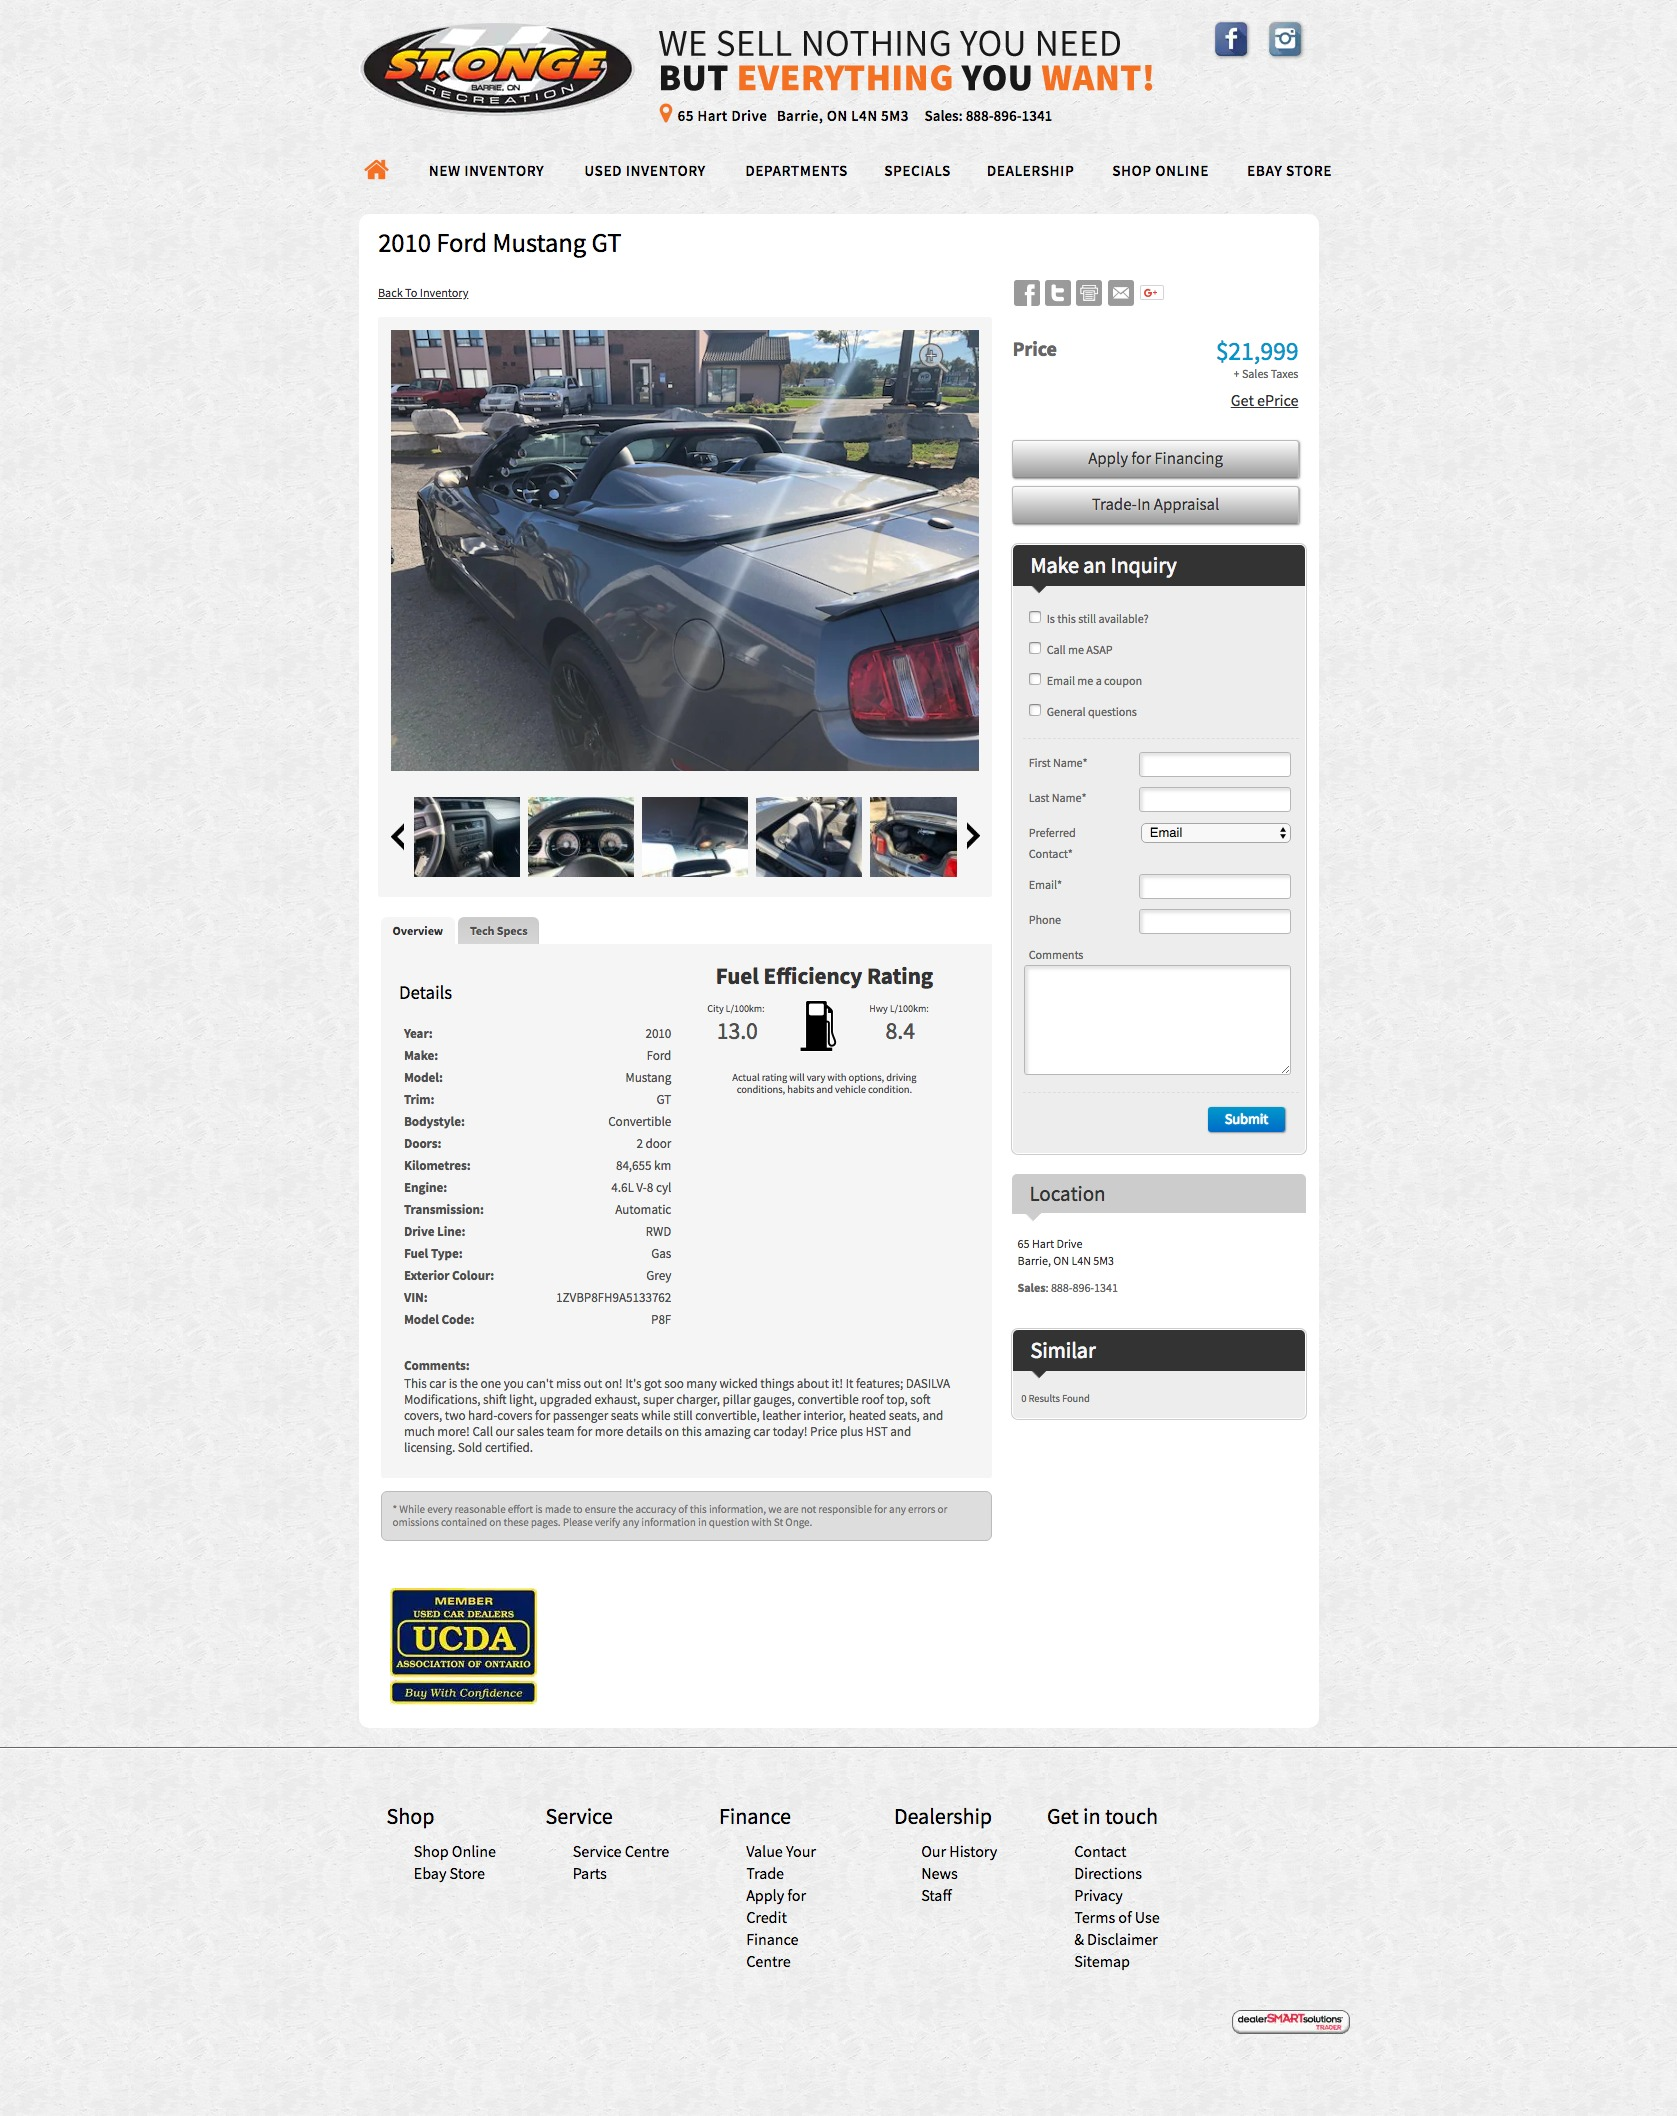car: (966, 823, 983, 850)
